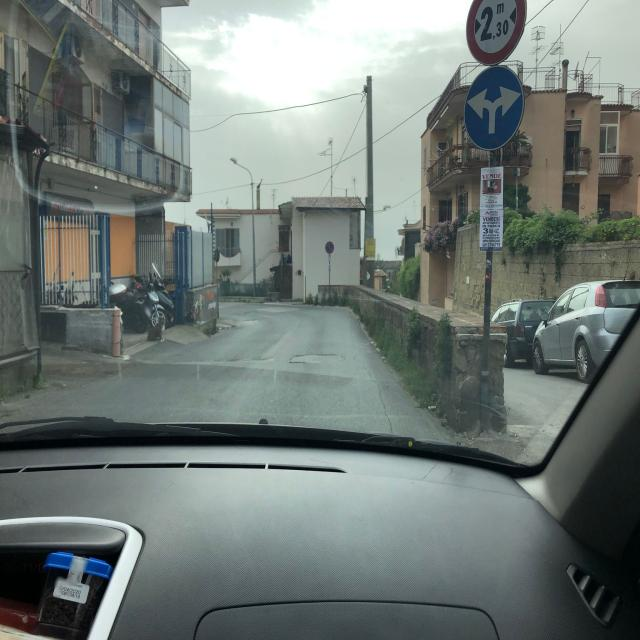forb_stopping: (324, 241, 334, 254)
